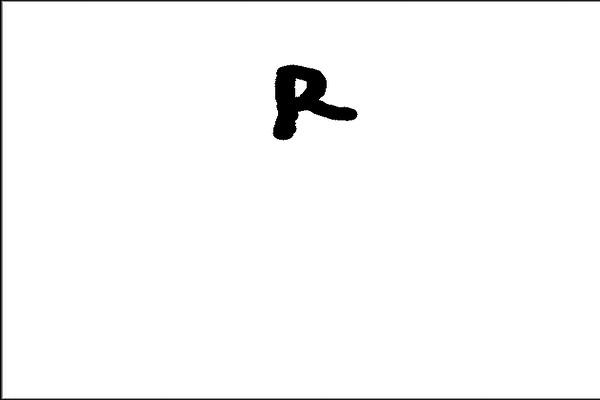R: (261, 55, 359, 142)
